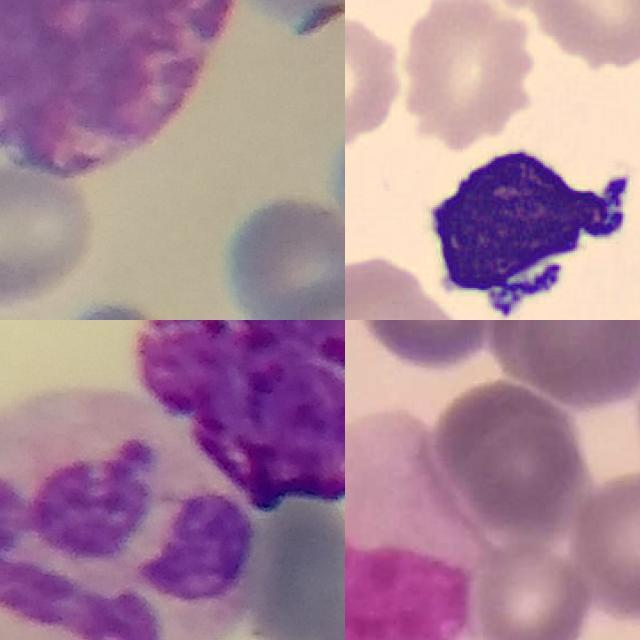Basophil: (0, 0, 241, 185), (136, 320, 345, 512)
Eosinophil: (0, 384, 259, 640)
Lymphocyte: (413, 133, 640, 320)
Monocyte: (345, 410, 495, 640)
Platelets: (602, 170, 634, 207)
RBC: (393, 0, 544, 148), (345, 249, 470, 320), (345, 11, 406, 150), (525, 0, 640, 66)
